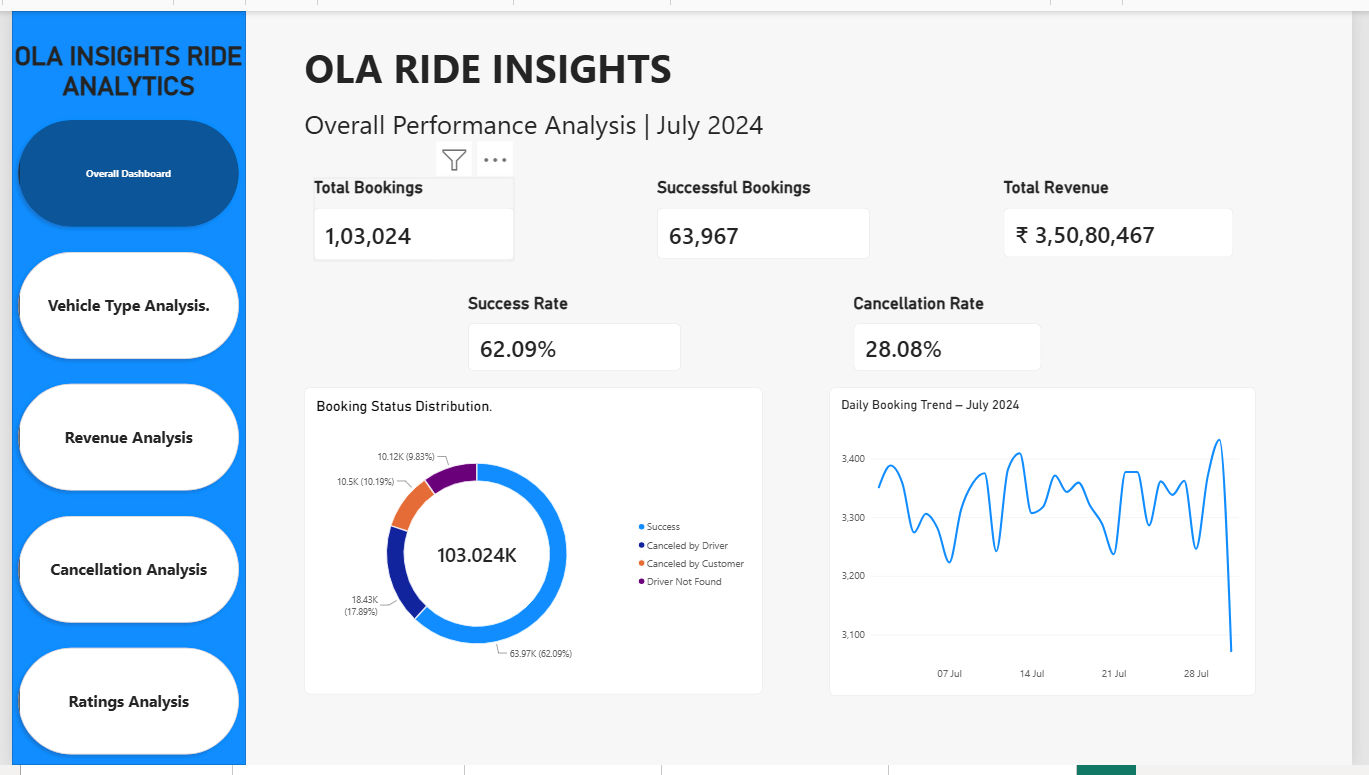

The page's visual inventory and layout, read from the dashboard file:
{"tool":"powerbi","page":{"name":"Overall Dashboard","canvas":[1920,1080],"ordinal":0},"visuals":[{"type":"cardVisual","title":"Total Bookings","fields":{"Data":["ola_rides_cleaned.Total Bookings"]},"box":[431.9,238.6,288.7,119.3],"z":0},{"type":"cardVisual","title":"Successful Bookings","fields":{"Data":["ola_rides_cleaned.Successful Bookings"]},"box":[923.3,238.6,305.4,116.9],"z":1},{"type":"cardVisual","title":"Total Revenue","fields":{"Data":["ola_rides_cleaned.Total Revenue"]},"box":[1419.6,238.6,329.3,114.5],"z":2},{"type":"cardVisual","title":"Success Rate","fields":{"Data":["ola_rides_cleaned.Success Rate"]},"box":[653.7,403.2,305.4,112.1],"z":3},{"type":"cardVisual","title":"Cancellation Rate","fields":{"Data":["ola_rides_cleaned.Cancellation Rate"]},"box":[1204.9,403.2,269.6,112.1],"z":4},{"type":"donutChart","title":"Booking Status Distribution.","fields":{"Category":["ola_rides_cleaned.Booking_Status"],"Y":["CountNonNull(ola_rides_cleaned.Booking_ID)"]},"box":[419.9,539.2,656.1,439],"z":5},{"type":"lineChart","title":"Daily Booking Trend – July 2024","fields":{"Category":["ola_rides_cleaned.Date"],"Y":["CountNonNull(ola_rides_cleaned.Booking_ID)"]},"box":[1171.5,539.2,610.8,441.4],"z":6},{"type":"textbox","box":[419.9,42.9,1388.6,169.4],"z":7},{"type":"shape","box":[0,0,335,1080],"z":8},{"type":"pageNavigator","title":"OLA INSIGHTS RIDE ANALYTICS","box":[0,42.9,334,1034],"z":9}]}

Visuals, with their boxes in screenshot pixels (x1, y1, x2, y2), scaled from the page's 1920x1080 canvas onto the 1369x775 screenshot:
"Total Bookings" cardVisual: [308, 171, 514, 257]
"Successful Bookings" cardVisual: [658, 171, 876, 255]
"Total Revenue" cardVisual: [1012, 171, 1247, 253]
"Success Rate" cardVisual: [466, 289, 684, 370]
"Cancellation Rate" cardVisual: [859, 289, 1051, 370]
"Booking Status Distribution." donutChart: [299, 387, 767, 702]
"Daily Booking Trend – July 2024" lineChart: [835, 387, 1271, 704]
textbox: [299, 31, 1289, 152]
shape: [0, 0, 239, 774]
"OLA INSIGHTS RIDE ANALYTICS" pageNavigator: [0, 31, 238, 773]
